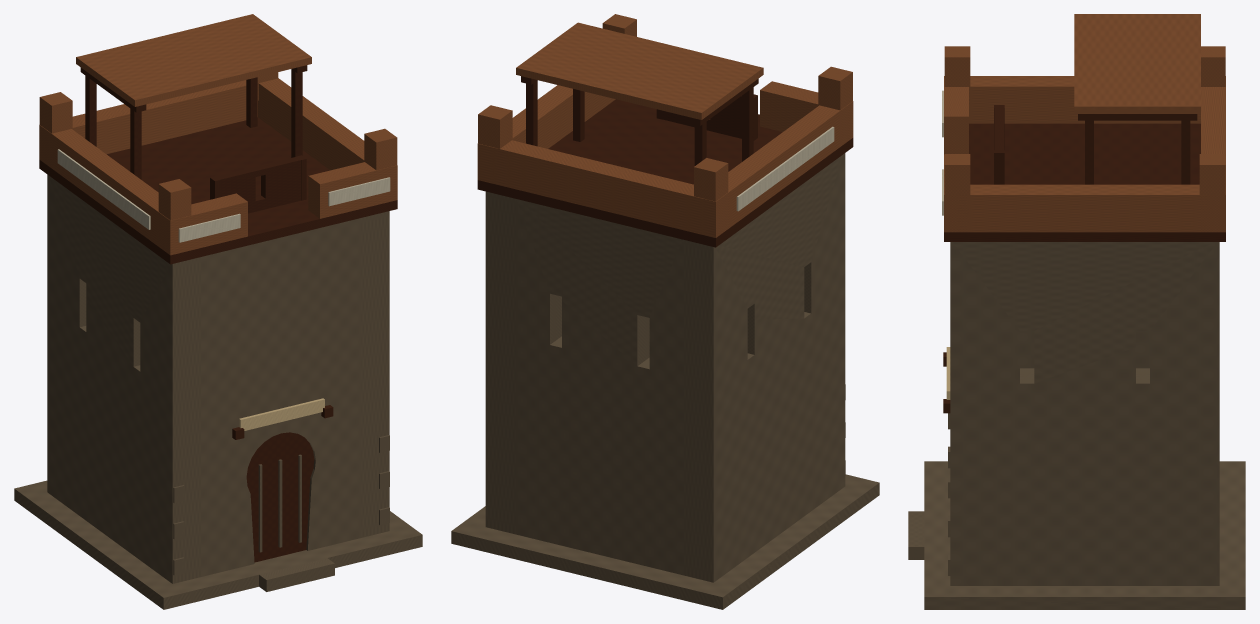
The model's file is Berber_Outpost_Age2_arrowslits_stone.fbx.
The picture shows the model from 3 angles, left to right: view 1: azimuth 30°, elevation 25°; view 2: azimuth 150°, elevation 25°; view 3: azimuth 270°, elevation 25°; orthographic projection. The views are drawn at different scales.
Parts seen in each view (by area): view 1: fortified_stone_side, fortified_stone_face, lookout_floor, fitted_flat_canopy, tower_foundation, fortified_stone_side.001, lookout_parapet_back, horseshoe_door.001, lookout_parapet_side.001, lookout_parapet_side, arrow_shield_panel, lookout_parapet_front.001 (+13 smaller); view 2: fortified_stone_face.001, fortified_stone_side, fitted_flat_canopy, tower_foundation, lookout_floor, lookout_parapet_back, fortified_stone_side.001, lookout_parapet_side, lookout_parapet_side.001, lookout_parapet_front, neutral_owner_side_band, corner_merlon.003 (+6 smaller); view 3: fortified_stone_side.001, lookout_floor, tower_foundation, fitted_flat_canopy, lookout_parapet_side.001, lookout_parapet_side, lookout_parapet_back, lookout_parapet_front, corner_merlon, corner_merlon.002, corner_merlon.003, fortified_stone_side (+7 smaller).
Part boxes in pixels (x1,y1,x2,y2): fortified_stone_side: (47, 174, 201, 583); fortified_stone_face: (200, 218, 361, 576); lookout_floor: (39, 117, 397, 264); fitted_flat_canopy: (76, 14, 311, 106); tower_foundation: (14, 480, 422, 609); fortified_stone_side.001: (361, 211, 389, 537); lookout_parapet_back: (39, 80, 257, 167); horseshoe_door.001: (246, 432, 314, 562); lookout_parapet_side.001: (258, 78, 364, 170); lookout_parapet_side: (51, 129, 164, 250); arrow_shield_panel: (215, 156, 300, 213); lookout_parapet_front.001: (308, 162, 397, 218); fortified_stone_face.001: (515, 199, 684, 575); fortified_stone_side: (683, 153, 845, 582); fitted_flat_canopy: (516, 22, 763, 119); tower_foundation: (451, 474, 879, 609); lookout_floor: (477, 99, 853, 247); lookout_parapet_back: (477, 140, 727, 237); fortified_stone_side.001: (485, 191, 515, 534); lookout_parapet_side: (728, 105, 846, 228); lookout_parapet_side.001: (512, 85, 615, 148); lookout_parapet_front: (760, 81, 853, 145); neutral_owner_side_band: (736, 126, 834, 211); corner_merlon.003: (478, 105, 512, 148); fortified_stone_side.001: (950, 242, 1219, 585); lookout_floor: (944, 123, 1225, 241); tower_foundation: (924, 461, 1245, 609); fitted_flat_canopy: (1074, 14, 1200, 113); lookout_parapet_side.001: (956, 184, 1213, 232); lookout_parapet_side: (969, 76, 1200, 123); lookout_parapet_back: (1201, 76, 1225, 232); lookout_parapet_front: (944, 76, 968, 153); corner_merlon: (944, 46, 970, 105); corner_merlon.002: (944, 154, 970, 194); corner_merlon.003: (1199, 154, 1225, 194); fortified_stone_side: (1020, 331, 1149, 368).
Bounding box in the file's own units: 360 × 596 × 378.
Materials: 5 (5 with a texture image).
